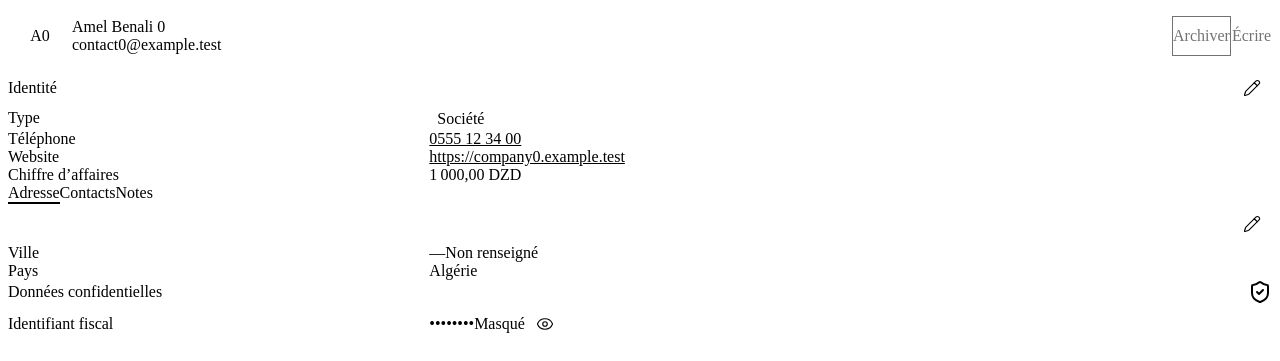
Test: FormView: confidential data › masks the values and gives them away only when asked, one at a time
Expected: the text "Masqué" is shown, [474,315,525,333]
Click the button named "Afficher : Identifiant fiscal" at (545, 324), box [525,304,565,344]
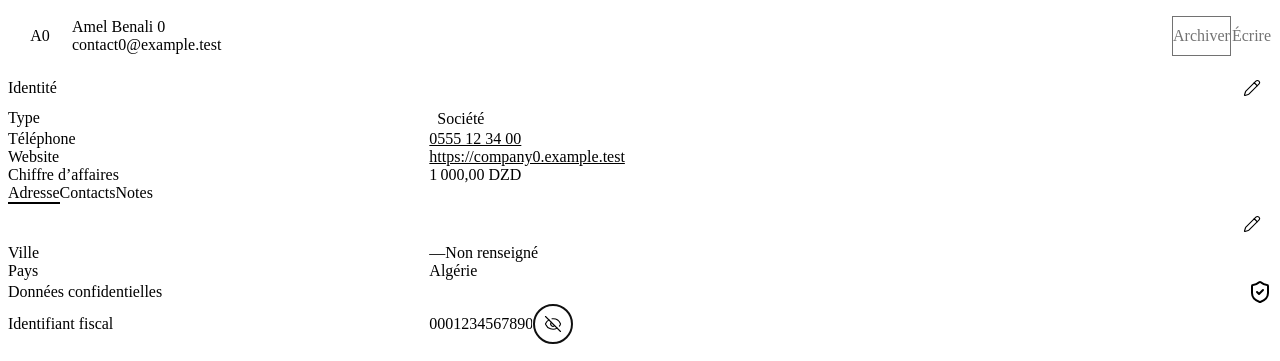
Now the text "0001234567890" is shown, box [429,315,533,333]
Click the button named "Masquer : Identifiant fiscal" at (553, 324), box [533,304,573,344]
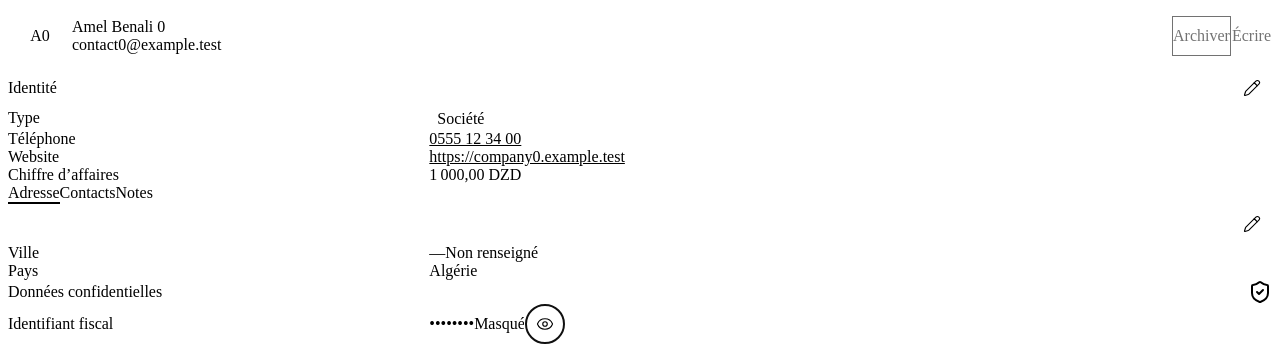
Now the text "0001234567890" is gone
Now the text "Masqué" is shown, box [474,315,525,333]
